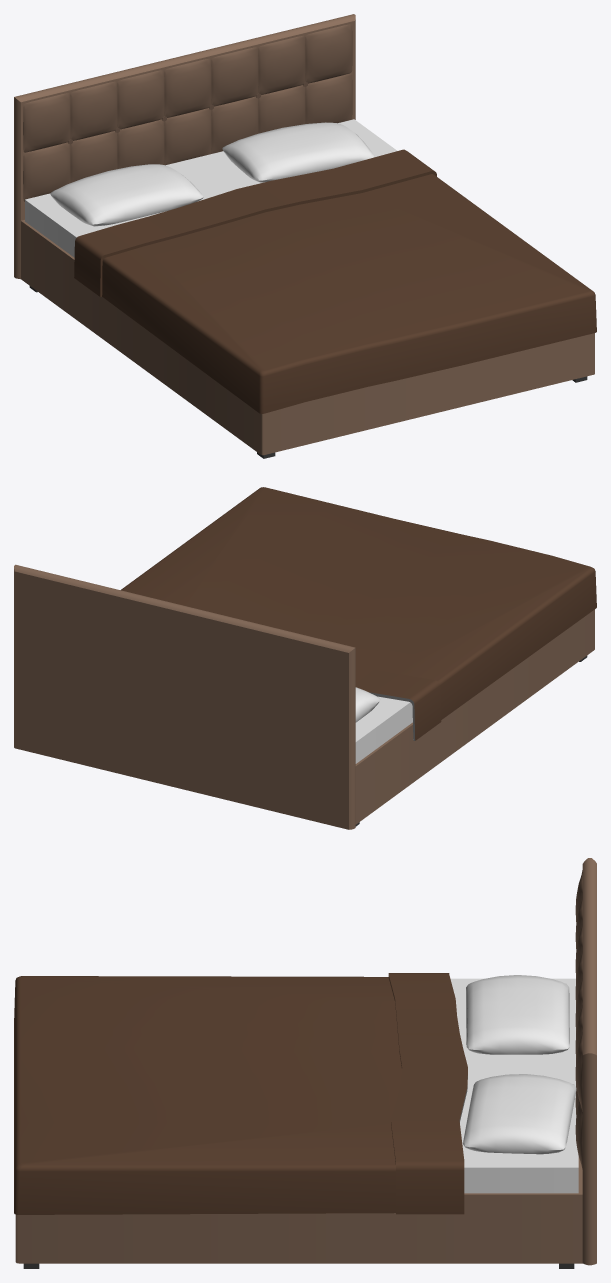
The model's file is Bed3_C2.fbx.
The picture shows the model from 3 angles, top to bottom: view 1: azimuth 30°, elevation 25°; view 2: azimuth 150°, elevation 25°; view 3: azimuth 270°, elevation 25°; orthographic projection. The views are drawn at different scales.
Parts seen in each view (by area): view 1: Bed3_C2; view 2: Bed3_C2; view 3: Bed3_C2.
Part boxes in pixels (<box>): Bed3_C2: <box>14,14,596,458</box>; Bed3_C2: <box>14,487,596,829</box>; Bed3_C2: <box>14,858,596,1268</box>.
Size of the model in its own units: 163 by 85.69 by 206.
